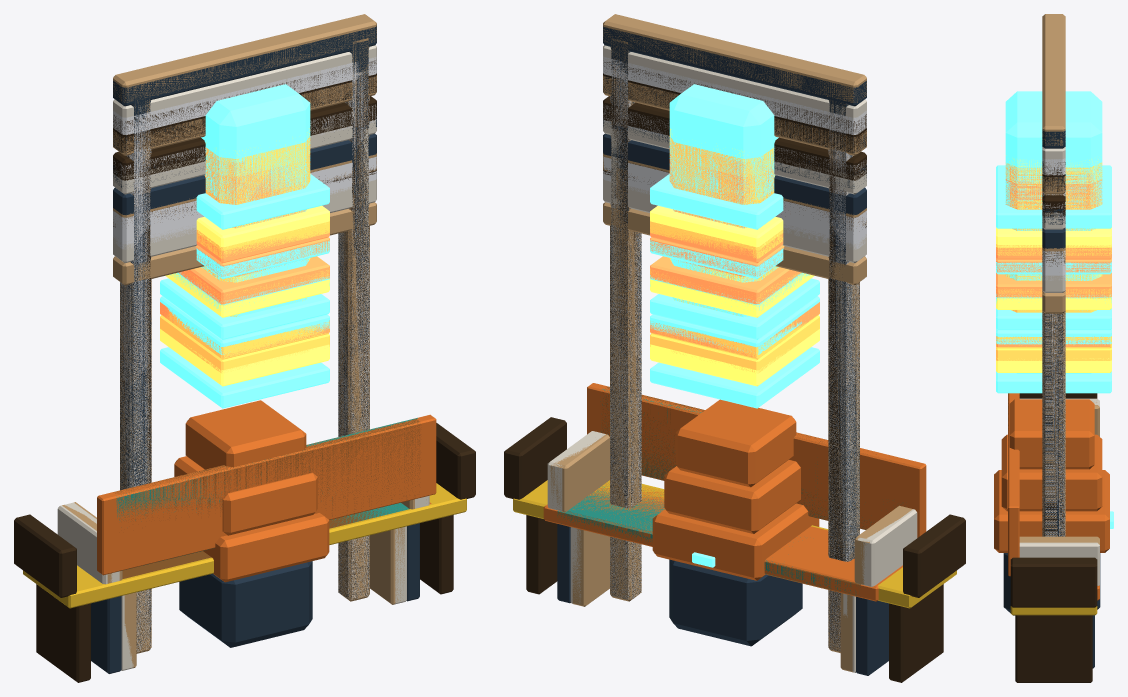
File: flagship_props_007.glb
3 renders of one model, left to right at view 1: azimuth 30°, elevation 25°; view 2: azimuth 150°, elevation 25°; view 3: azimuth 270°, elevation 25°, orthographic. The views are drawn at different scales.
Visible parts, largest first — view 1: Prop_BBIsle_Bench_00, Prop_BBIsle_Beehive_19, Prop_BBIsle_Bell_01, Prop_BBIsle_Bench_01, Prop_BBIsle_Bell_15, Prop_BBIsle_Bell_12, Prop_BBIsle_Bell_00, Prop_BBIsle_Bell_02, Prop_BBIsle_Bench_03, Prop_BBIsle_Bell_03, Prop_BBIsle_Bell_08, Prop_BBIsle_Bell_04 (+13 smaller); view 2: Prop_BBIsle_Beehive_19, Prop_BBIsle_Bench_00, Prop_BBIsle_Bell_00, Prop_BBIsle_Bell_01, Prop_BBIsle_Bell_15, Prop_BBIsle_Bench_01, Prop_BBIsle_Bell_02, Prop_BBIsle_Bell_12, Prop_BBIsle_Bell_03, Prop_BBIsle_Bench_02, Prop_BBIsle_Bench_03, Prop_BBIsle_Bell_04 (+13 smaller); view 3: Prop_BBIsle_Beehive_19, Prop_BBIsle_Bench_01, Prop_BBIsle_Bell_15, Prop_BBIsle_Bell_02, Prop_BBIsle_Bell_01, Prop_BBIsle_Bell_00, Prop_BBIsle_Bell_12, Prop_BBIsle_Bell_05, Prop_BBIsle_Bell_08, Prop_BBIsle_Bell_03, Prop_BBIsle_Bell_19, Prop_BBIsle_Bell_13 (+13 smaller).
Part boxes in pixels (<box>): Prop_BBIsle_Bench_00: <box>91,414,436,673</box>; Prop_BBIsle_Beehive_19: <box>174,400,329,647</box>; Prop_BBIsle_Bell_01: <box>113,56,376,651</box>; Prop_BBIsle_Bench_01: <box>14,423,475,682</box>; Prop_BBIsle_Bell_15: <box>113,14,376,607</box>; Prop_BBIsle_Bell_12: <box>113,26,376,642</box>; Prop_BBIsle_Bell_00: <box>113,202,376,653</box>; Prop_BBIsle_Bell_02: <box>113,133,376,648</box>; Prop_BBIsle_Bench_03: <box>62,419,426,668</box>; Prop_BBIsle_Bell_03: <box>113,96,376,651</box>; Prop_BBIsle_Bell_08: <box>113,74,376,636</box>; Prop_BBIsle_Bell_04: <box>113,119,376,650</box>; Prop_BBIsle_Beehive_19: <box>652,399,819,646</box>; Prop_BBIsle_Bench_00: <box>543,383,926,675</box>; Prop_BBIsle_Bell_00: <box>603,202,866,652</box>; Prop_BBIsle_Bell_01: <box>603,56,866,651</box>; Prop_BBIsle_Bell_15: <box>603,14,866,622</box>; Prop_BBIsle_Bench_01: <box>504,417,965,682</box>; Prop_BBIsle_Bell_02: <box>603,133,866,650</box>; Prop_BBIsle_Bell_12: <box>603,26,866,640</box>; Prop_BBIsle_Bell_03: <box>603,96,866,649</box>; Prop_BBIsle_Bench_02: <box>547,389,917,672</box>; Prop_BBIsle_Bench_03: <box>550,386,912,672</box>; Prop_BBIsle_Bell_04: <box>603,116,866,646</box>; Prop_BBIsle_Beehive_19: <box>994,399,1113,615</box>; Prop_BBIsle_Bench_01: <box>1010,393,1097,682</box>; Prop_BBIsle_Bell_15: <box>996,14,1111,524</box>; Prop_BBIsle_Bell_02: <box>996,228,1111,536</box>; Prop_BBIsle_Bell_01: <box>996,158,1111,536</box>; Prop_BBIsle_Bell_00: <box>996,291,1111,536</box>; Prop_BBIsle_Bell_12: <box>996,130,1111,534</box>; Prop_BBIsle_Bell_05: <box>996,176,1111,536</box>; Prop_BBIsle_Bell_08: <box>996,175,1111,536</box>; Prop_BBIsle_Bell_03: <box>996,195,1111,536</box>; Prop_BBIsle_Bell_19: <box>996,147,1111,247</box>; Prop_BBIsle_Bell_13: <box>996,161,1111,529</box>.
Bounding box in the file's own units: 2.29 × 3.02 × 0.62.
